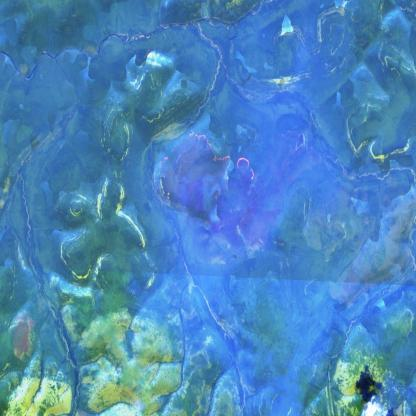fire: (152, 129, 262, 230)
